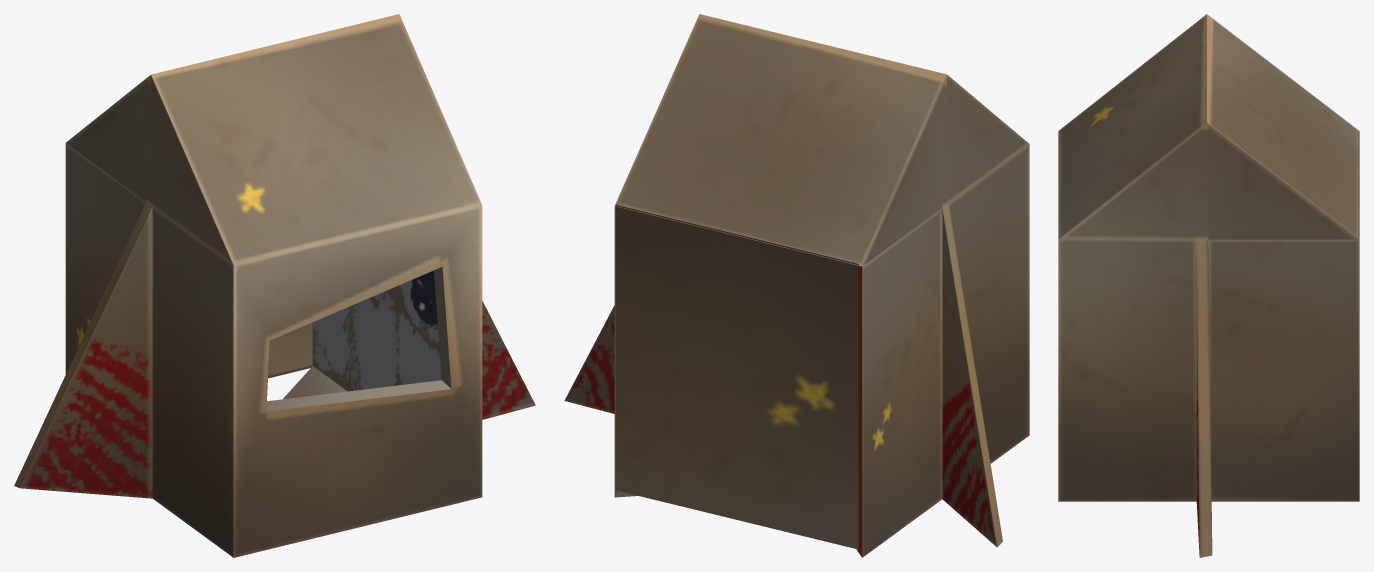
Rendered from cardboard-spaceshuttle.fbx.
3 views of the same model, side by side, from view 1: azimuth 30°, elevation 25°; view 2: azimuth 150°, elevation 25°; view 3: azimuth 270°, elevation 25° (orthographic). The views are drawn at different scales.
Parts seen in each view (by area): view 1: polySurface14, polySurface15; view 2: polySurface14, polySurface15; view 3: polySurface14.
Part boxes in pixels (x1,y1,x2,y2): polySurface14: [14, 14, 535, 557]; polySurface15: [268, 322, 312, 378]; polySurface14: [564, 14, 1029, 557]; polySurface15: [615, 205, 858, 549]; polySurface14: [1058, 14, 1359, 557].
Size of the model in its own units: 2.94 by 2.5 by 1.8.
1 material, 1 textured.
